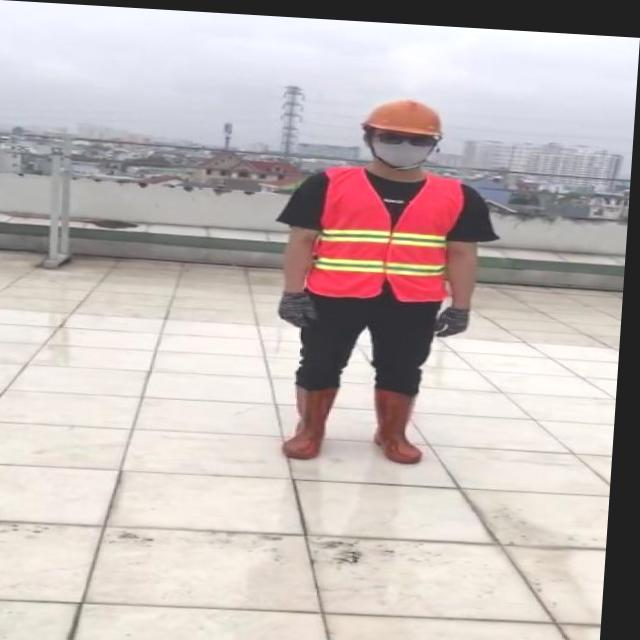Gloves: (282, 285, 324, 324), (439, 299, 475, 333)
Safety-Boot: (377, 381, 433, 458), (289, 378, 344, 456)
Safety-Vest: (309, 158, 470, 300)
